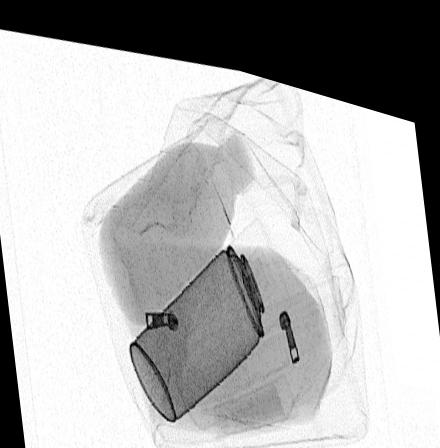Sprayer: (127, 200, 293, 415)
